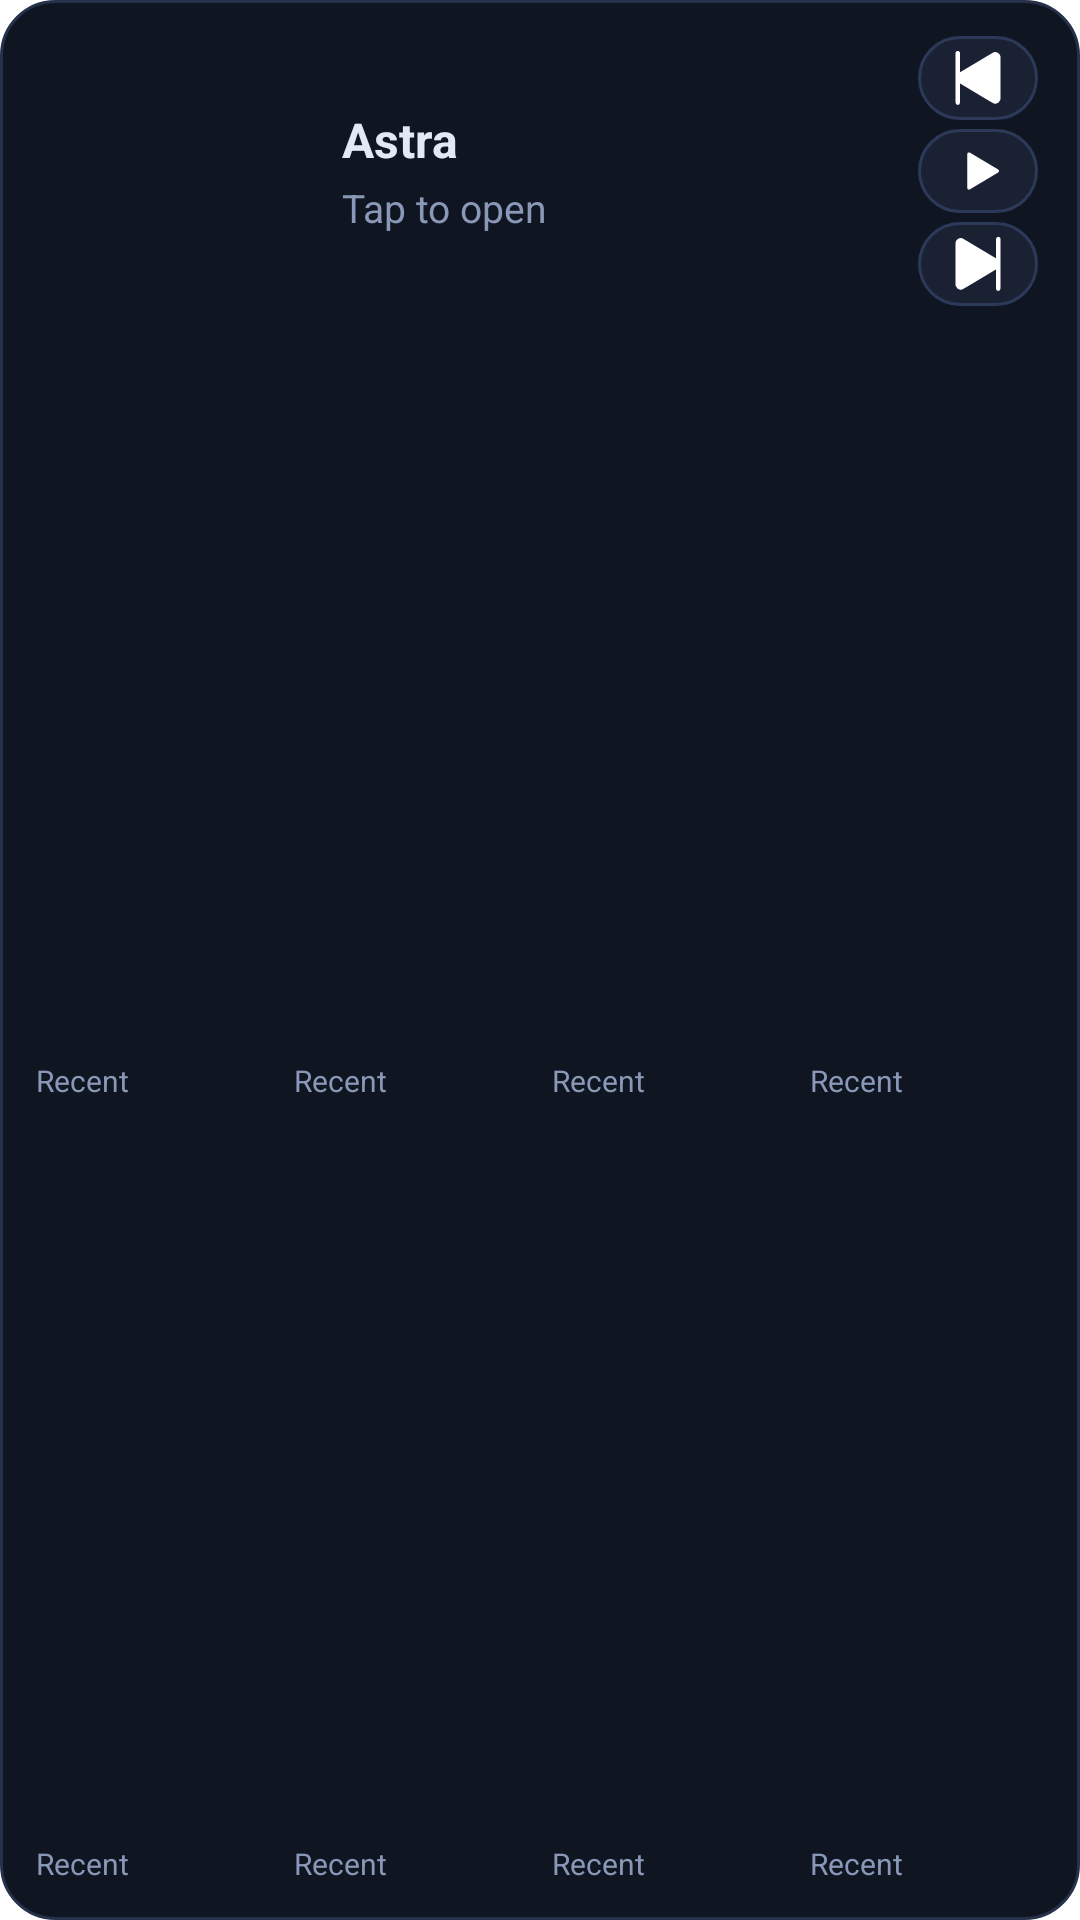

Named icons in this screenshot (1080px x 1920px) and their centers, (x=x, y=y):
Next: (x=978, y=264)
Play: (x=978, y=171)
Previous: (x=978, y=78)
